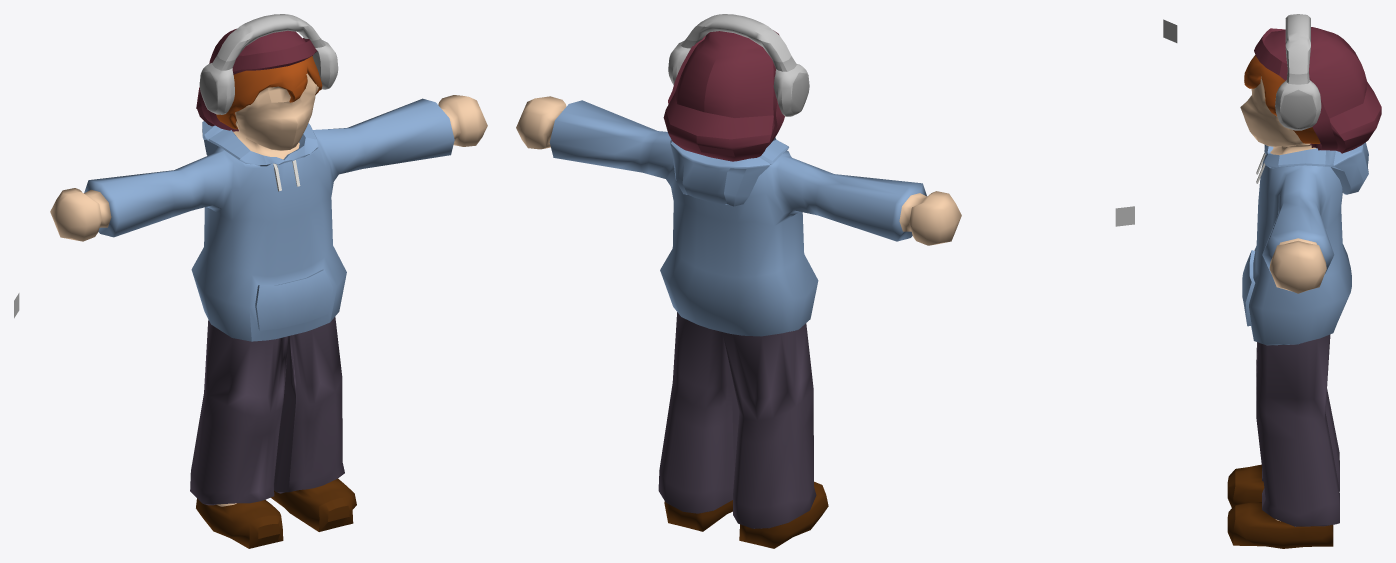
File: collegestudentSIT.fbx
The picture shows the model from 3 angles, left to right: view 1: azimuth 30°, elevation 25°; view 2: azimuth 150°, elevation 25°; view 3: azimuth 270°, elevation 25°; orthographic projection.
Visible parts, largest first — view 1: CollegeStudent; view 2: CollegeStudent; view 3: CollegeStudent, IMG_1670.
Part boxes in pixels (left/top/right/bottom): CollegeStudent: left=50, top=14, right=487, bottom=548; CollegeStudent: left=516, top=14, right=961, bottom=548; CollegeStudent: left=1227, top=14, right=1381, bottom=548; IMG_1670: left=1163, top=19, right=1177, bottom=42.
Bounding box in the file's own units: 72.22 × 64.07 × 25.37.
